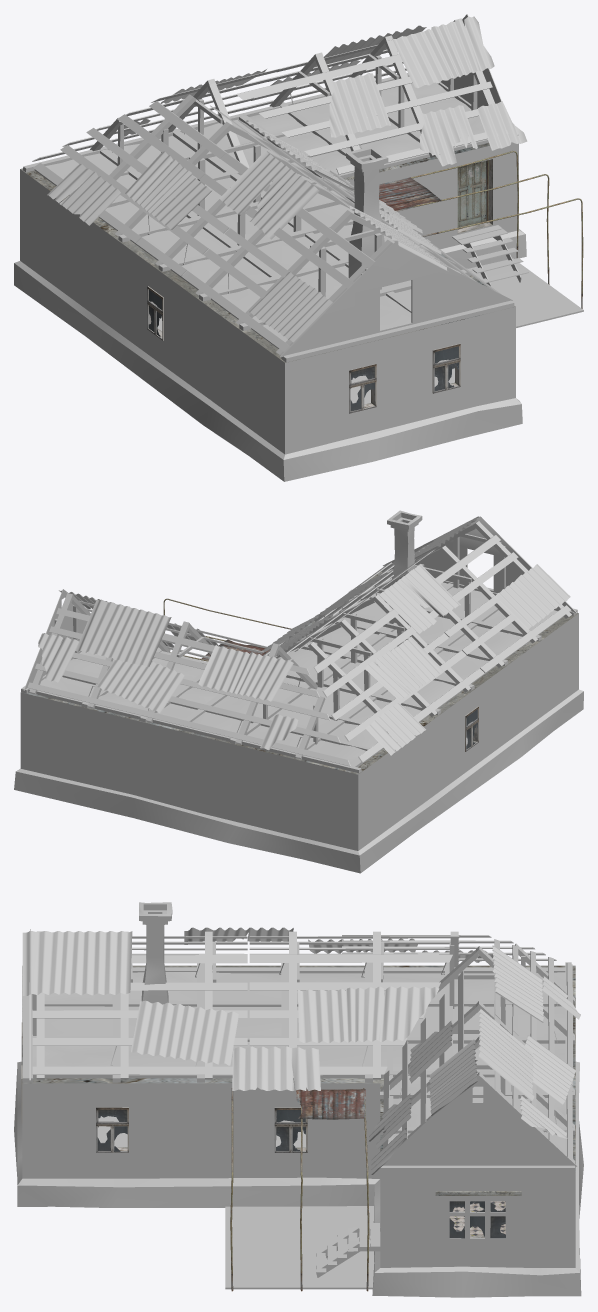
The model's file is Houses_Ready_04_Form2.FBX.
3 views of the same model, one above another, from view 1: azimuth 30°, elevation 25°; view 2: azimuth 150°, elevation 25°; view 3: azimuth 270°, elevation 25° (orthographic). The views are drawn at different scales.
Parts seen in each view (by area): view 1: Attic_03_Form2, Corps_02_4, Roof_07_Form2, Foundation_01_2, Porch_07_2, Chimney_02, Door_03, Windows_10; view 2: Corps_02_4, Attic_03_Form2, Roof_07_Form2, Foundation_01_2, Chimney_02, Porch_07_2; view 3: Attic_03_Form2, Corps_02_4, Roof_07_Form2, Foundation_01_2, Porch_07_2, Chimney_02, Windows_Big_01, Windows_10_2, Windows_10.
Boxes of the visible parts, x1,y1,x2,y2 form: Attic_03_Form2: (23, 14, 518, 362); Corps_02_4: (20, 142, 518, 454); Roof_07_Form2: (47, 16, 527, 342); Foundation_01_2: (14, 229, 526, 481); Porch_07_2: (379, 151, 583, 327); Chimney_02: (346, 147, 388, 277); Door_03: (457, 160, 485, 227); Windows_10: (432, 343, 460, 393); Corps_02_4: (20, 571, 578, 850); Attic_03_Form2: (21, 516, 577, 773); Roof_07_Form2: (38, 516, 570, 755); Foundation_01_2: (14, 689, 583, 873); Chimney_02: (387, 510, 422, 626); Porch_07_2: (163, 598, 291, 661); Attic_03_Form2: (22, 929, 577, 1172); Corps_02_4: (22, 965, 575, 1267); Roof_07_Form2: (22, 927, 580, 1174); Foundation_01_2: (14, 1061, 583, 1297); Porch_07_2: (225, 1088, 380, 1291); Chimney_02: (139, 902, 172, 1004); Windows_Big_01: (440, 1196, 514, 1242); Windows_10_2: (96, 1107, 128, 1152); Windows_10: (274, 1107, 307, 1152).
Size of the model in its own units: 1479 by 1662 by 816.
